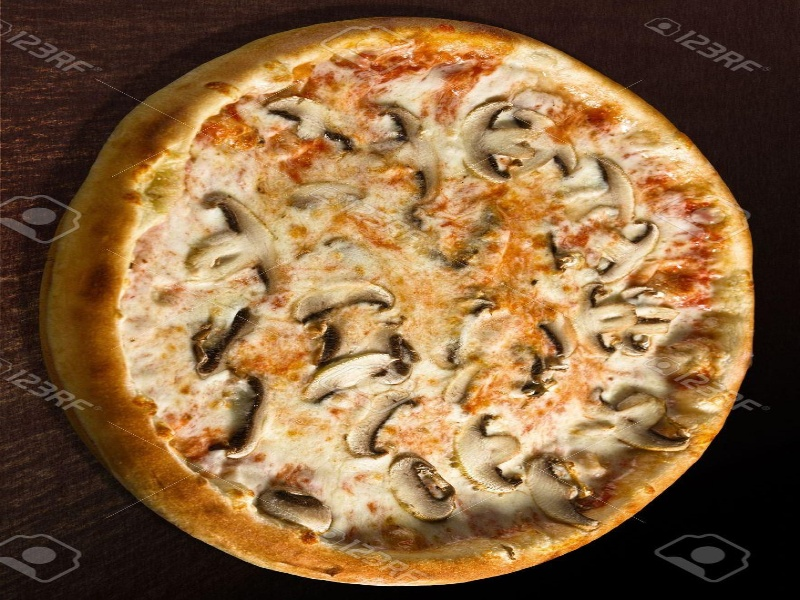champignon: (182, 187, 300, 311), (579, 383, 697, 461), (294, 279, 400, 354), (457, 97, 537, 187), (448, 408, 527, 498), (571, 216, 671, 280), (381, 454, 464, 527)
